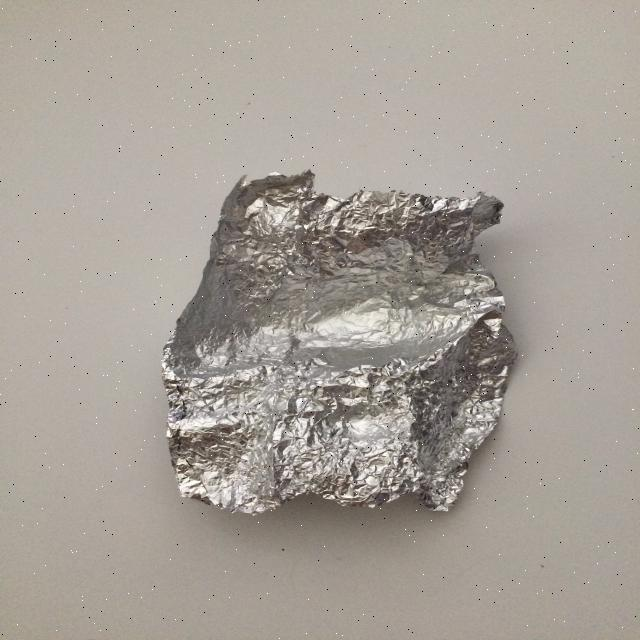metal: (160, 169, 518, 515)
